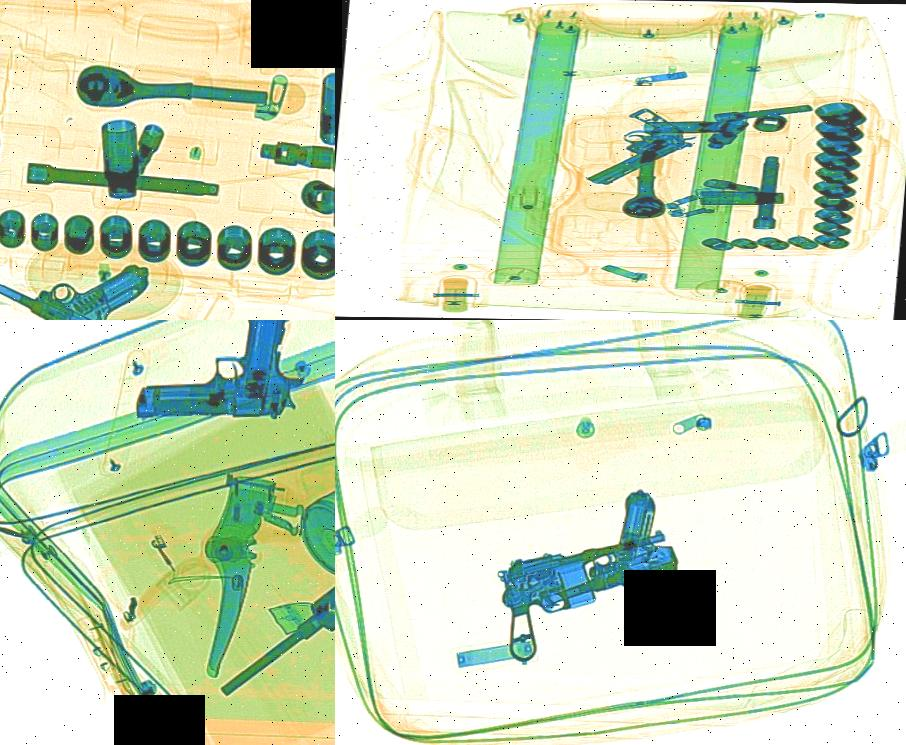Gun: (466, 518, 709, 668), (489, 481, 696, 616), (124, 320, 312, 422), (0, 216, 184, 320), (539, 104, 704, 188)
